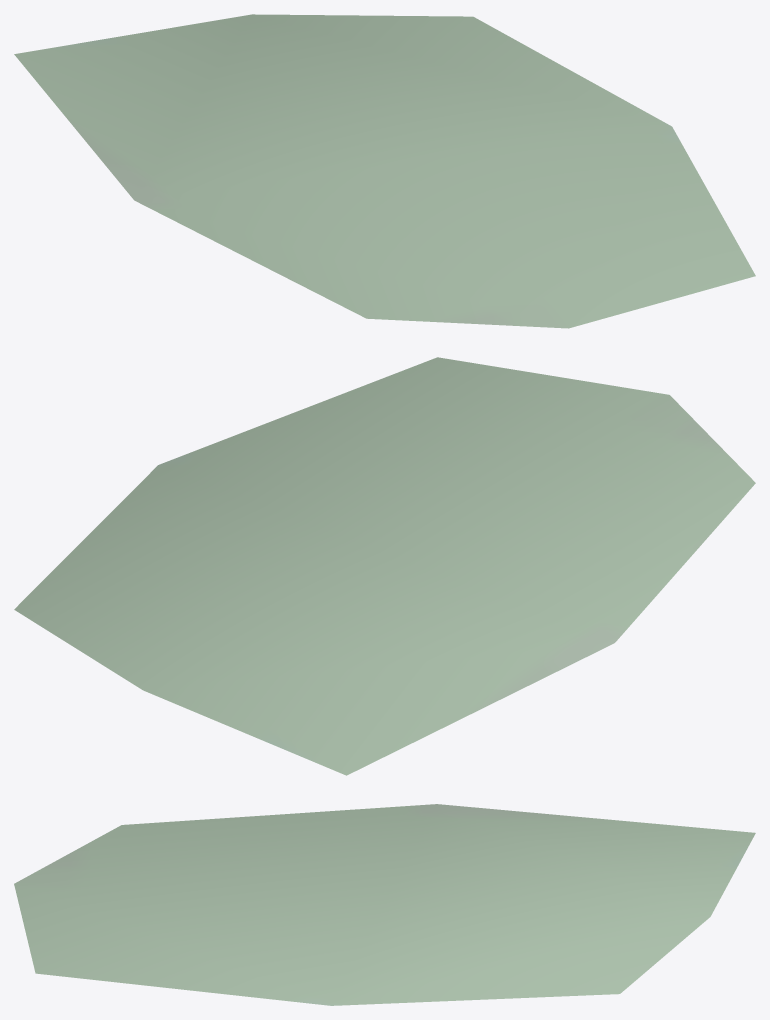
The model's file is TROLLHOLE02_HOLECAP10.fbx.
3 renders of one model, top to bottom at view 1: azimuth 30°, elevation 25°; view 2: azimuth 150°, elevation 25°; view 3: azimuth 270°, elevation 25°, orthographic. The views are drawn at different scales.
Visible parts, largest first — view 1: TROLLHOLE02_HOLECAP10; view 2: TROLLHOLE02_HOLECAP10; view 3: TROLLHOLE02_HOLECAP10.
Part boxes in pixels (<box>): TROLLHOLE02_HOLECAP10: <box>14,14,755,328</box>; TROLLHOLE02_HOLECAP10: <box>14,357,755,775</box>; TROLLHOLE02_HOLECAP10: <box>14,804,755,1005</box>.
Size of the model in its own units: 26570 by 397 by 40956.
1 material, 1 textured.
